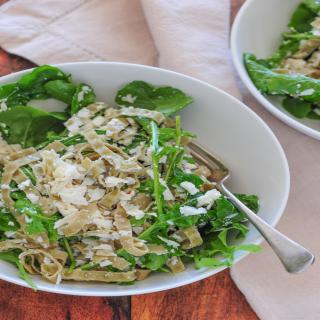Salad: (1, 78, 253, 290), (242, 0, 320, 138)
